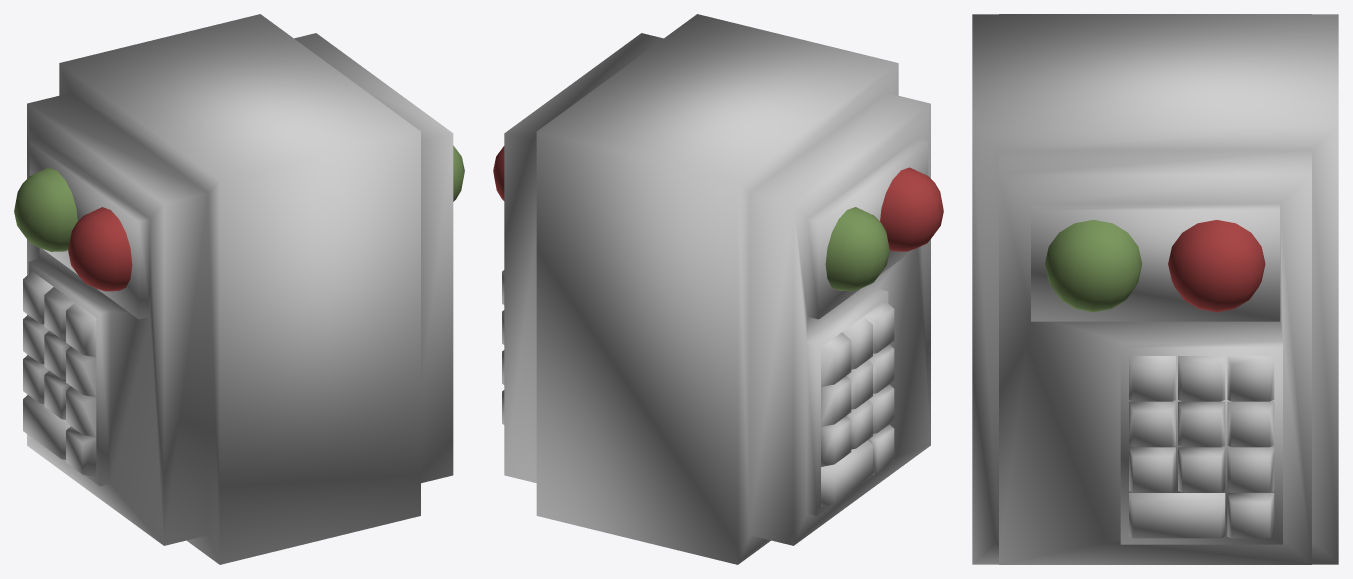
Rendered from SM_Polygonal_CodeLock.fbx.
3 renders of one model, left to right at view 1: azimuth 30°, elevation 25°; view 2: azimuth 150°, elevation 25°; view 3: azimuth 270°, elevation 25°, orthographic. The views are drawn at different scales.
Parts seen in each view (by area): view 1: SM_Polygonal_CodeLock; view 2: SM_Polygonal_CodeLock; view 3: SM_Polygonal_CodeLock.
Part boxes in pixels (<box>): SM_Polygonal_CodeLock: <box>14,14,464,564</box>; SM_Polygonal_CodeLock: <box>493,14,943,564</box>; SM_Polygonal_CodeLock: <box>972,14,1338,564</box>.
Size of the model in its own units: 30.38 by 21.91 by 28.92.
